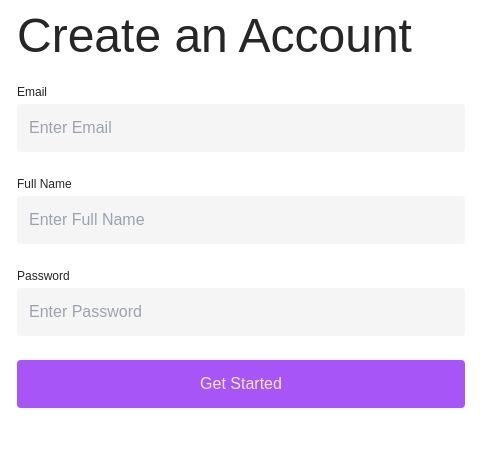
Register Form › Must show error
Type "test@test.com" into the field with id "email" at (241, 128), box [17,104,465,152]
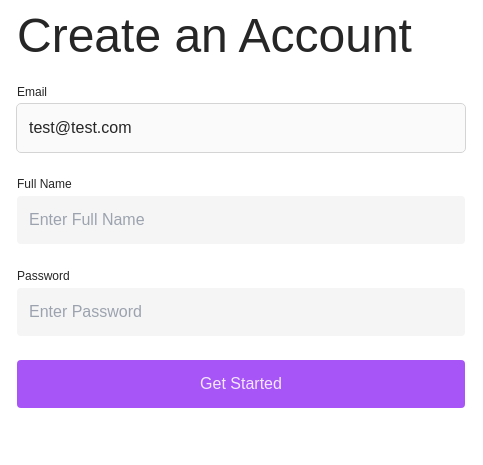
Type "John Doe" into the field with id "fullName" at (241, 220), box [17,196,465,244]
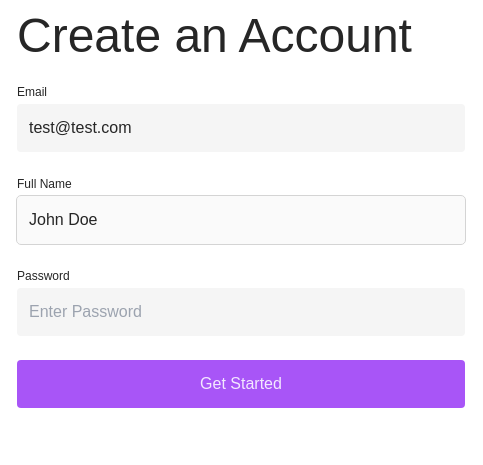
Type "password123" into the password field labelled "Password" at (241, 312), box [17,288,465,336]
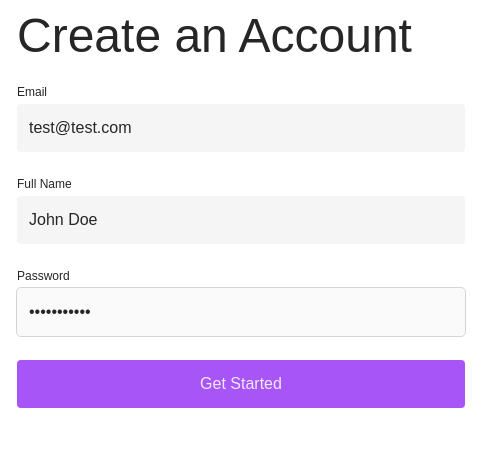
Submit the form
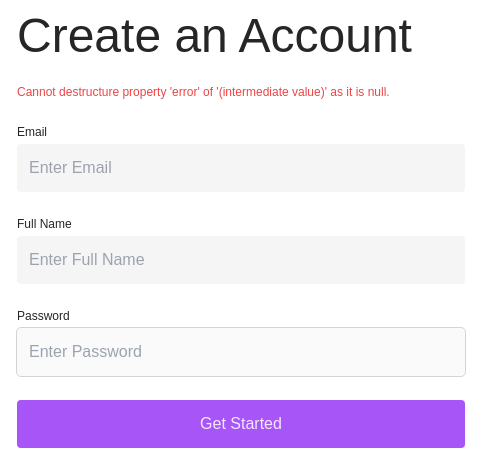
Expected: the text with test id "errorMessage" is shown, [17,85,390,99]
